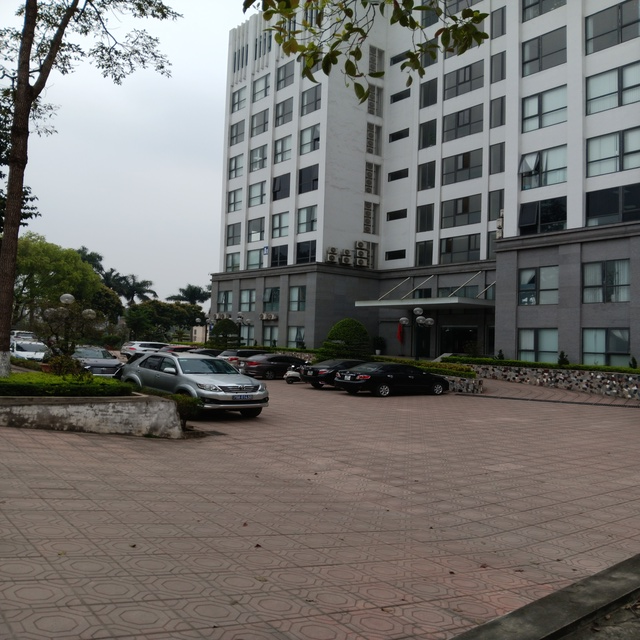cotden: (45, 282, 103, 370), (399, 304, 442, 362)
